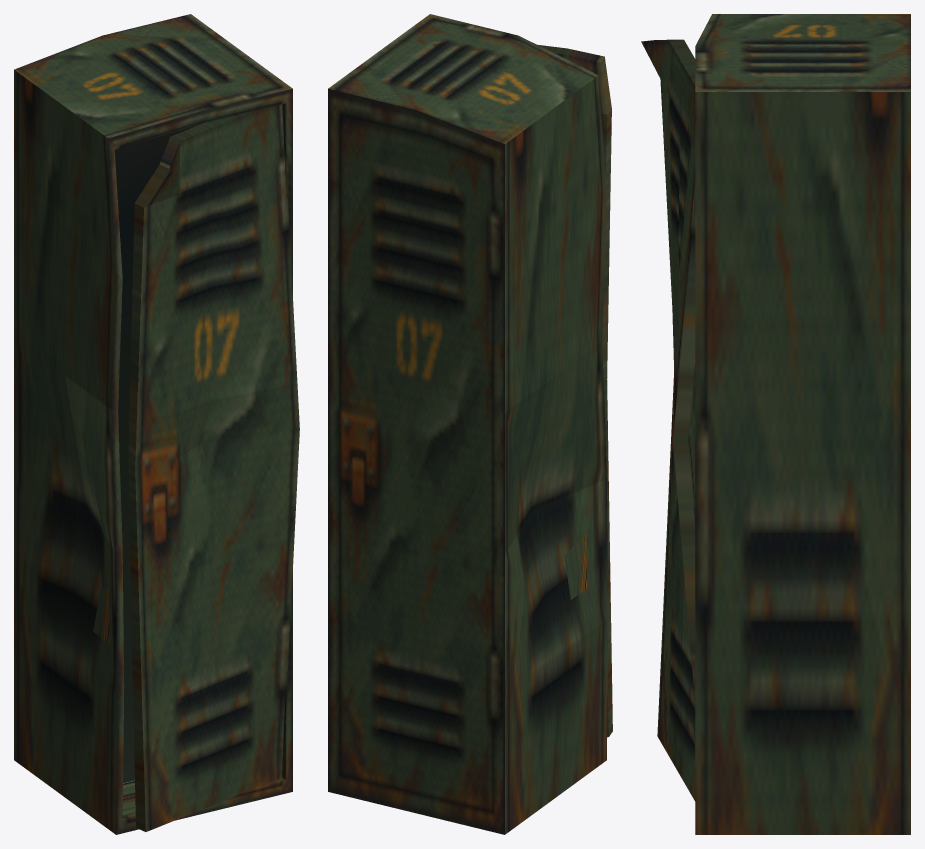
Rendered from locker_0_broken.glb.
3 views of the same model, side by side, from view 1: azimuth 30°, elevation 25°; view 2: azimuth 150°, elevation 25°; view 3: azimuth 270°, elevation 25° (orthographic). The views are drawn at different scales.
Visible parts, largest first — view 1: Cube.002; view 2: Cube.002; view 3: Cube.002.
Boxes of the visible parts, x1,y1,x2,y2 form: Cube.002: (14, 14, 299, 834); Cube.002: (328, 14, 612, 834); Cube.002: (641, 14, 910, 834).
Size of the model in its own units: 0.5 by 1.9 by 0.6254.
Materials: 1 (1 with a texture image).
